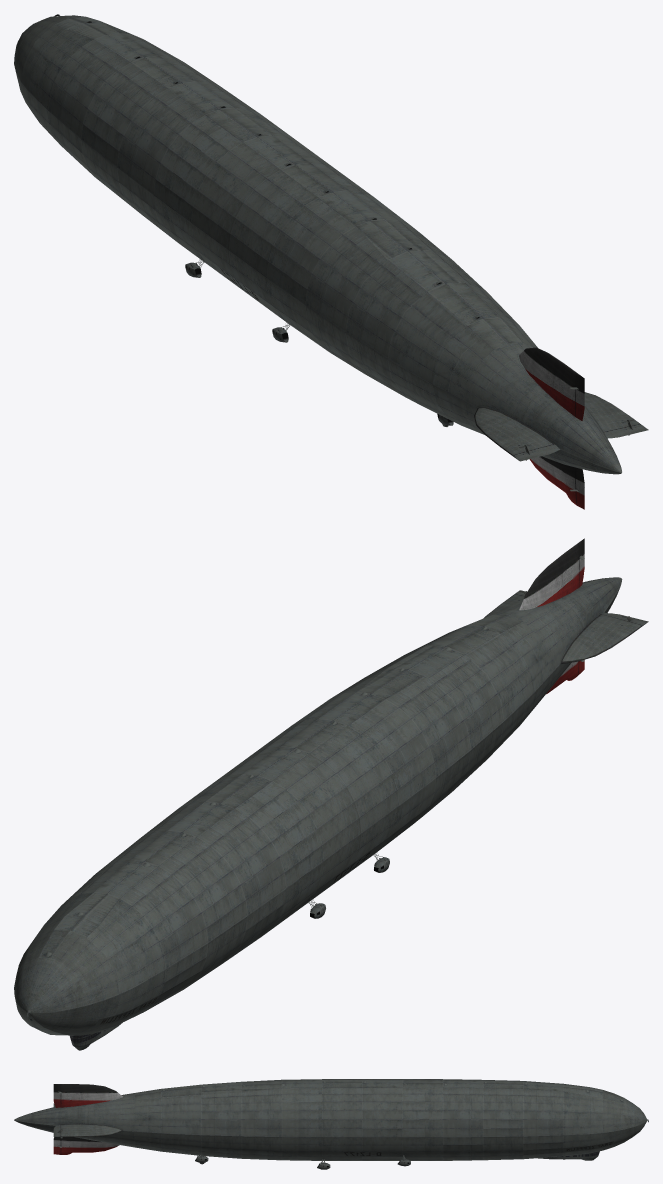
File: graf_zeppelin_lz127_from_world_of_warships.glb
3 views of the same model, one above another, from view 1: azimuth 30°, elevation 25°; view 2: azimuth 150°, elevation 25°; view 3: azimuth 270°, elevation 25° (orthographic). The views are drawn at different scales.
Parts seen in each view (by area): view 1: Object_2; view 2: Object_2; view 3: Object_2.
Boxes of the visible parts, left/top/right/bottom form: Object_2: left=14, top=14, right=648, bottom=509; Object_2: left=14, top=538, right=648, bottom=1050; Object_2: left=14, top=1079, right=648, bottom=1169.
Size of the model in its own units: 41.15 by 45.01 by 316.
Materials: 1 (1 with a texture image).
